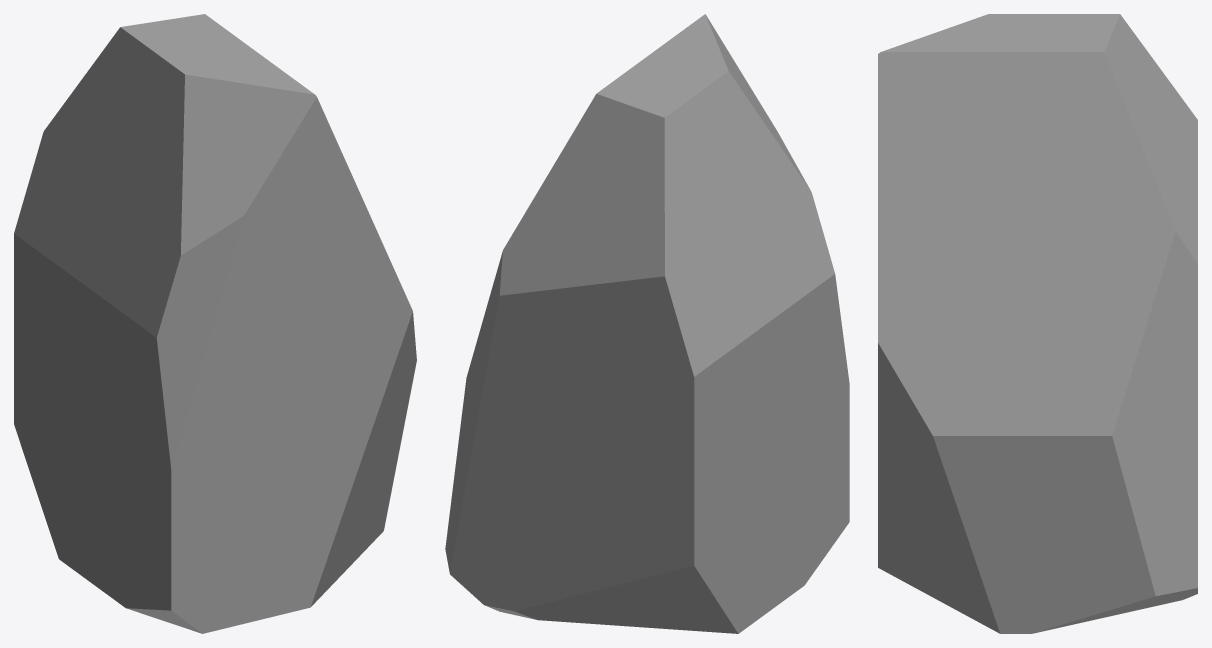
Rendered from HardRock_21.fbx.
3 renders of one model, left to right at view 1: azimuth 30°, elevation 25°; view 2: azimuth 150°, elevation 25°; view 3: azimuth 270°, elevation 25°, orthographic. The views are drawn at different scales.
Visible parts, largest first — view 1: HardRock_21; view 2: HardRock_21; view 3: HardRock_21.
Boxes of the visible parts, left/top/right/bottom form: HardRock_21: left=14, top=14, right=416, bottom=633; HardRock_21: left=445, top=14, right=849, bottom=633; HardRock_21: left=878, top=14, right=1197, bottom=633.
Size of the model in its own units: 54.54 by 97.62 by 54.54.
